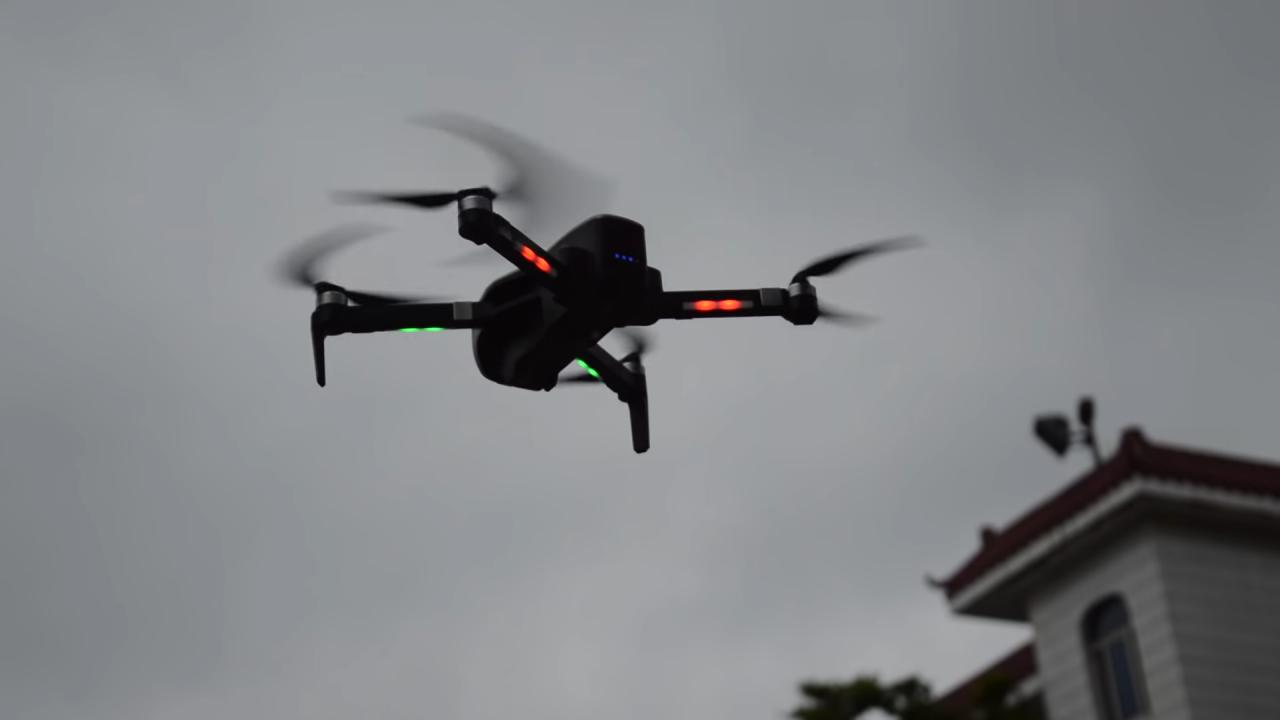Drone: (255, 88, 924, 466)
